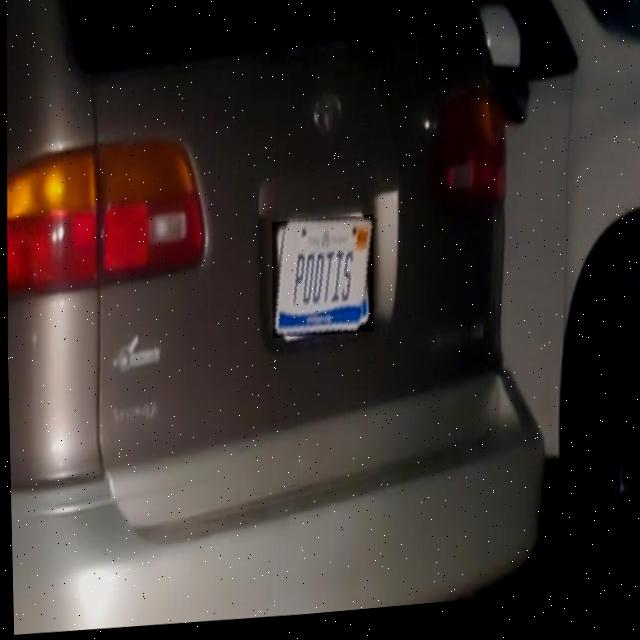LicensePlate: (271, 225, 372, 340)
